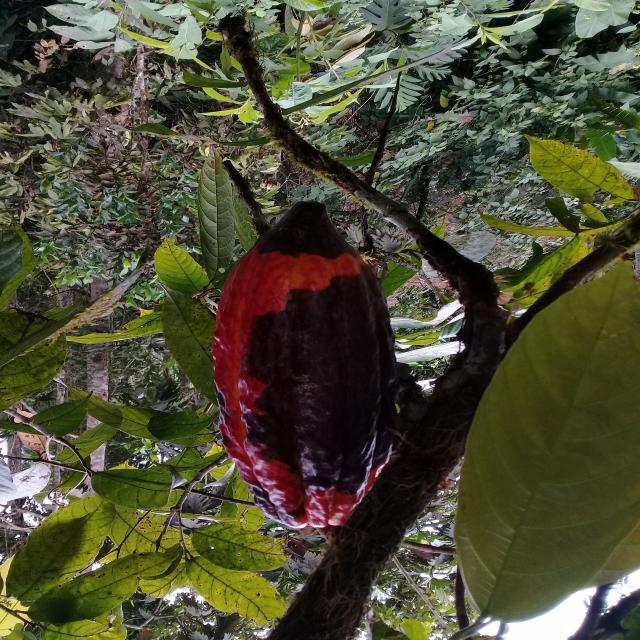Fitoftora: (210, 194, 398, 532)
